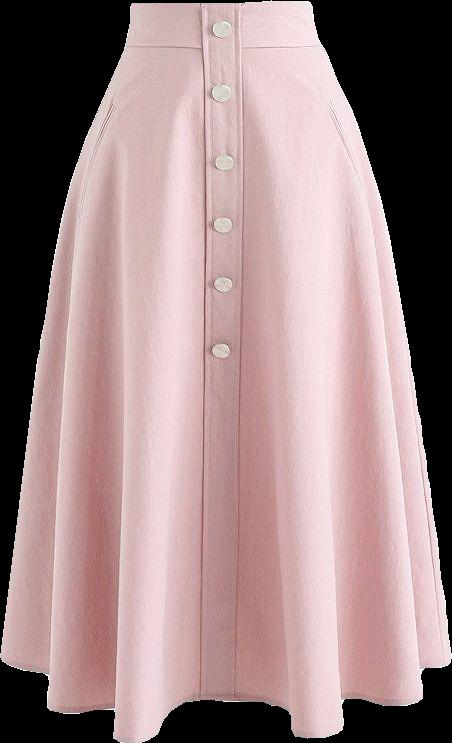Hemline: (0, 653, 451, 742)
Waistline: (125, 0, 322, 55)
